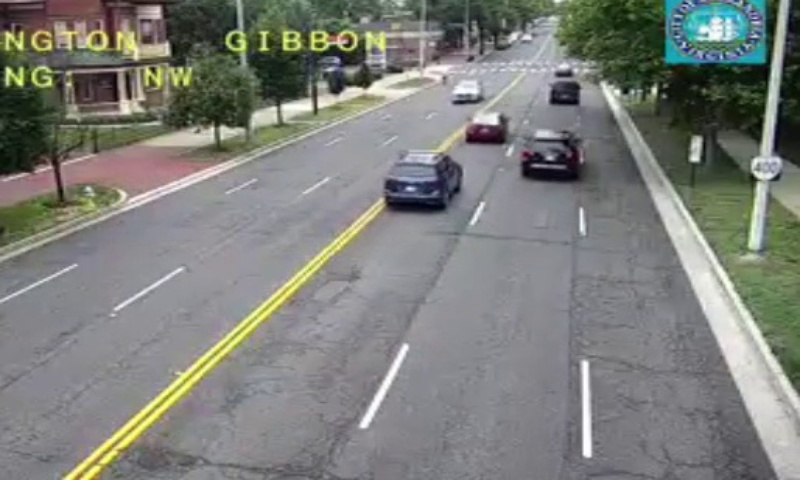car: (384, 153, 462, 204), (521, 131, 582, 175), (465, 115, 505, 141), (549, 80, 580, 104)
